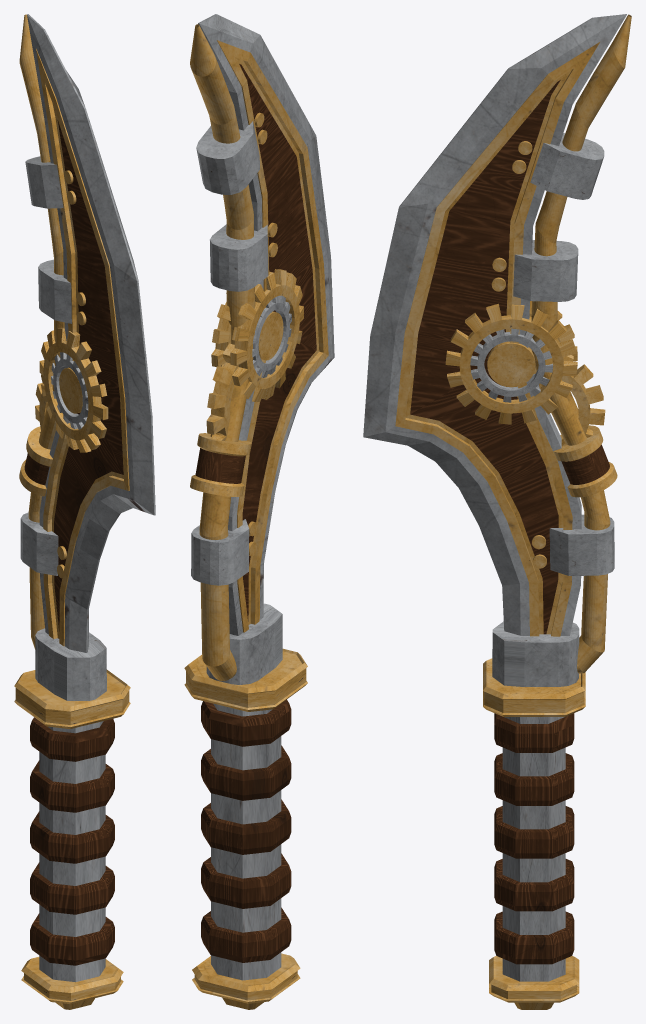
Rendered from newDagger.fbx.
3 views of the same model, side by side, from view 1: azimuth 30°, elevation 25°; view 2: azimuth 150°, elevation 25°; view 3: azimuth 270°, elevation 25° (orthographic). The views are drawn at different scales.
Parts seen in each view (by area): view 1: Plane; view 2: Plane; view 3: Plane.
Part boxes in pixels (x1,y1,x2,y2): Plane: (14,14,155,1009); Plane: (184,14,334,1009); Plane: (363,14,631,1009).
Size of the model in its own units: 84.5 by 896 by 221.
